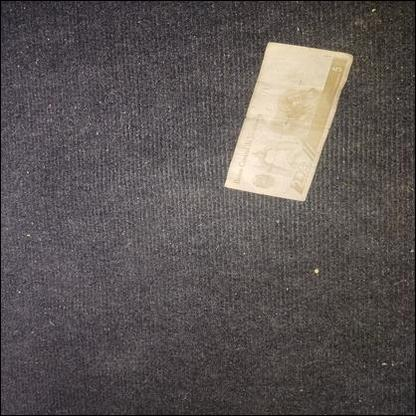vef_back: (224, 41, 352, 202)
